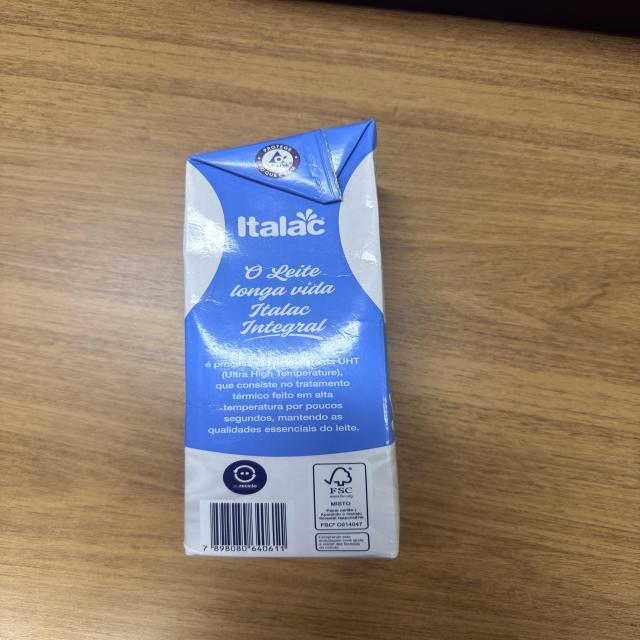Caixa de Leite: (186, 117, 400, 558)
